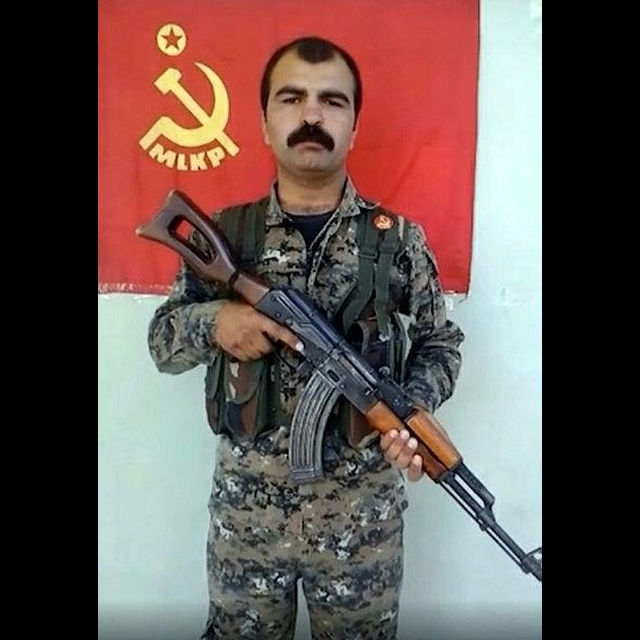MLKP: (135, 16, 241, 178)
